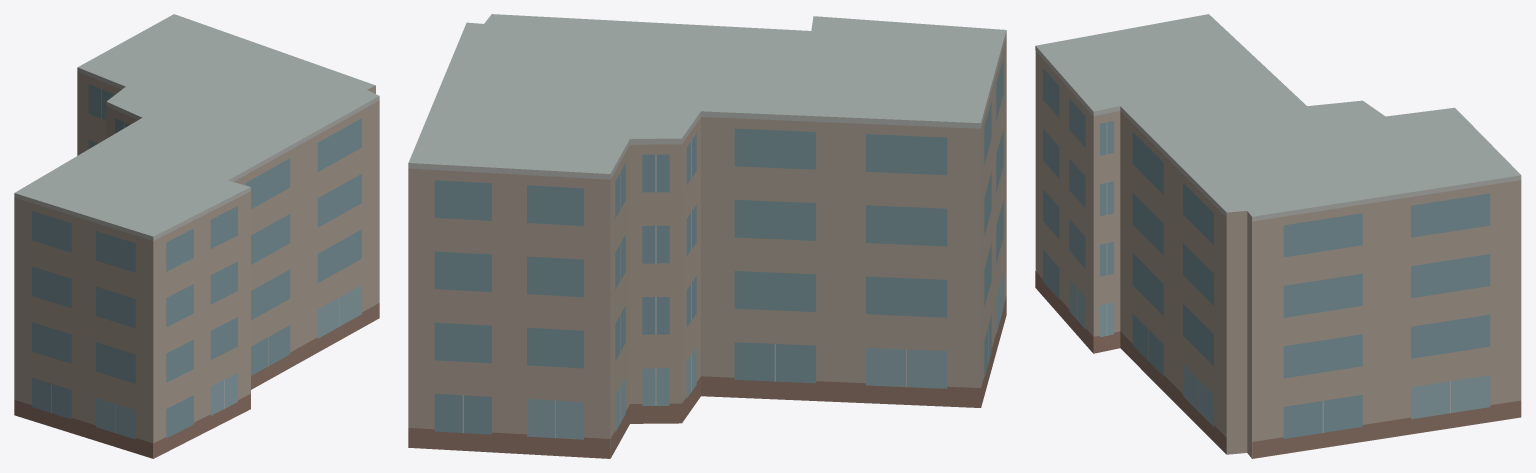
Rendered from survey-upis-32571627.glb.
3 renders of one model, left to right at view 1: azimuth 30°, elevation 25°; view 2: azimuth 150°, elevation 25°; view 3: azimuth 270°, elevation 25°, orthographic. The views are drawn at different scales.
Visible parts, largest first — view 1: survey-upis-32571627.tmp; view 2: survey-upis-32571627.tmp; view 3: survey-upis-32571627.tmp.
Boxes of the visible parts, box(x1,y1,x2,y2) form: survey-upis-32571627.tmp: box(14, 14, 379, 458); survey-upis-32571627.tmp: box(408, 14, 1006, 458); survey-upis-32571627.tmp: box(1035, 14, 1521, 458).
Bounding box in the file's own units: 22.28 × 12.4 × 22.57.
